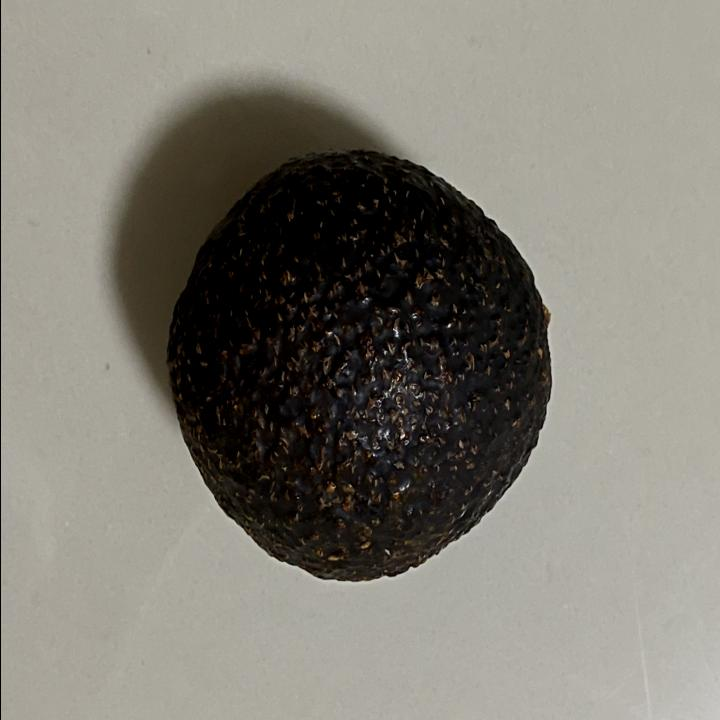Level2: (163, 145, 559, 588)
